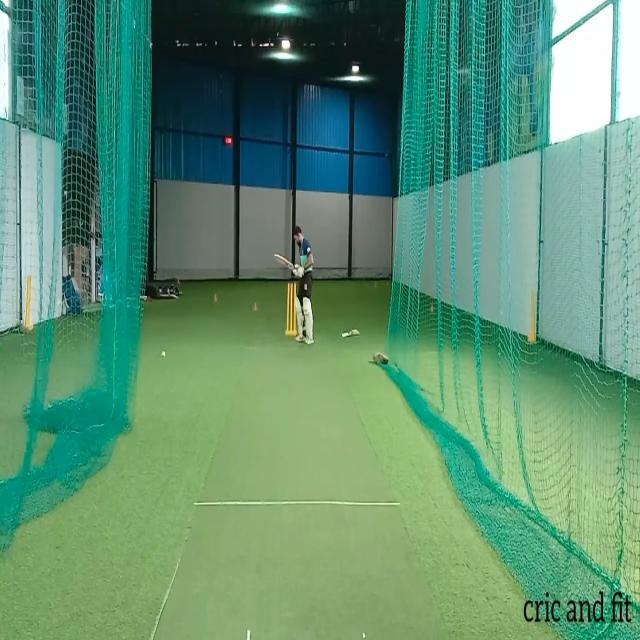batsman: (274, 224, 315, 346)
